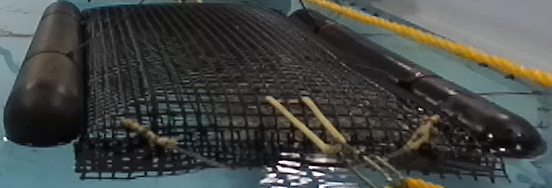bag: (2, 1, 547, 183)
